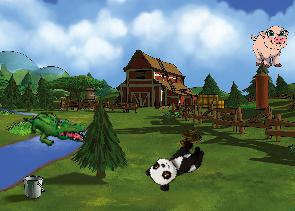crocodile: (23, 106, 87, 150)
panda: (143, 133, 209, 195)
pig: (251, 26, 289, 68)
